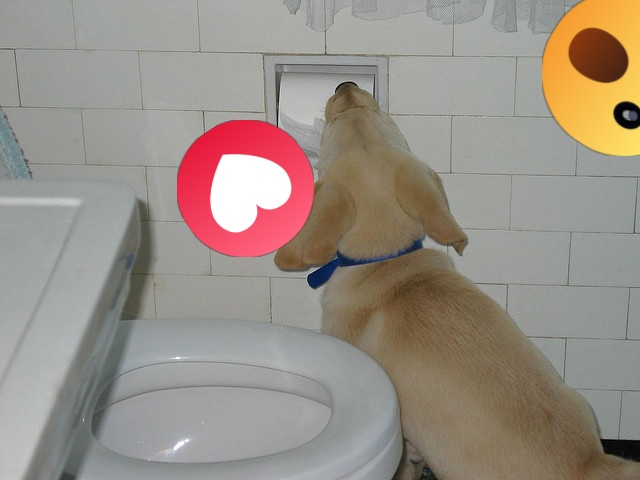love: (177, 120, 314, 257)
wow: (542, 0, 640, 156)
